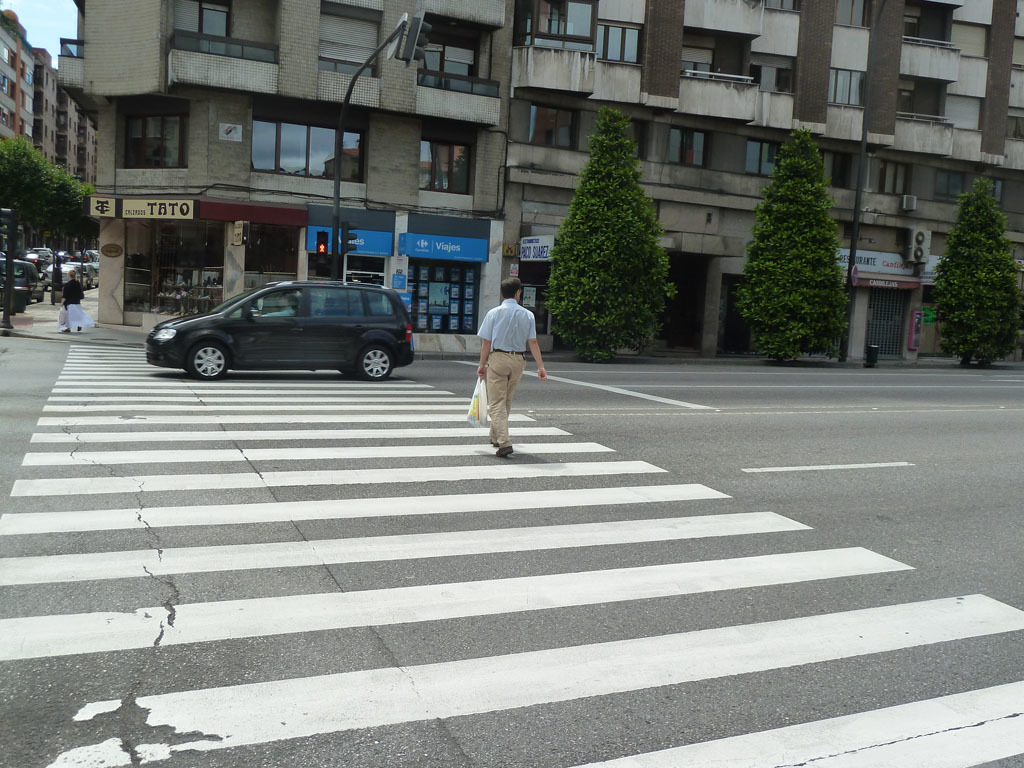Car: (142, 282, 414, 372)
